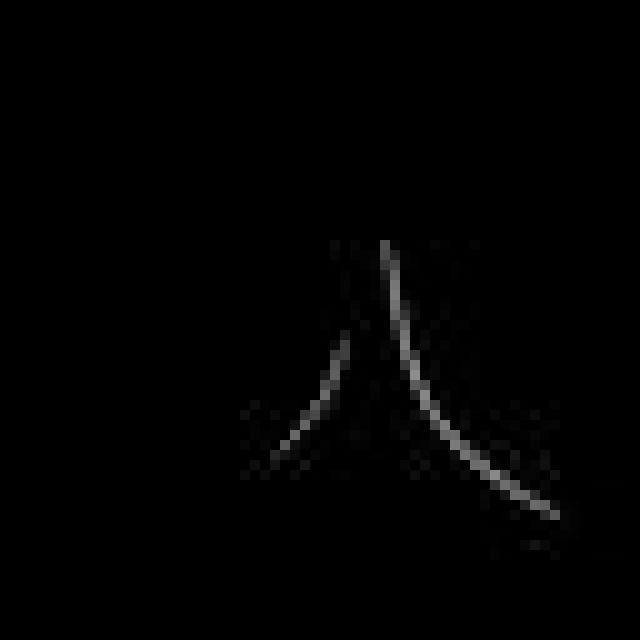8 -eight-: (261, 225, 563, 538)
